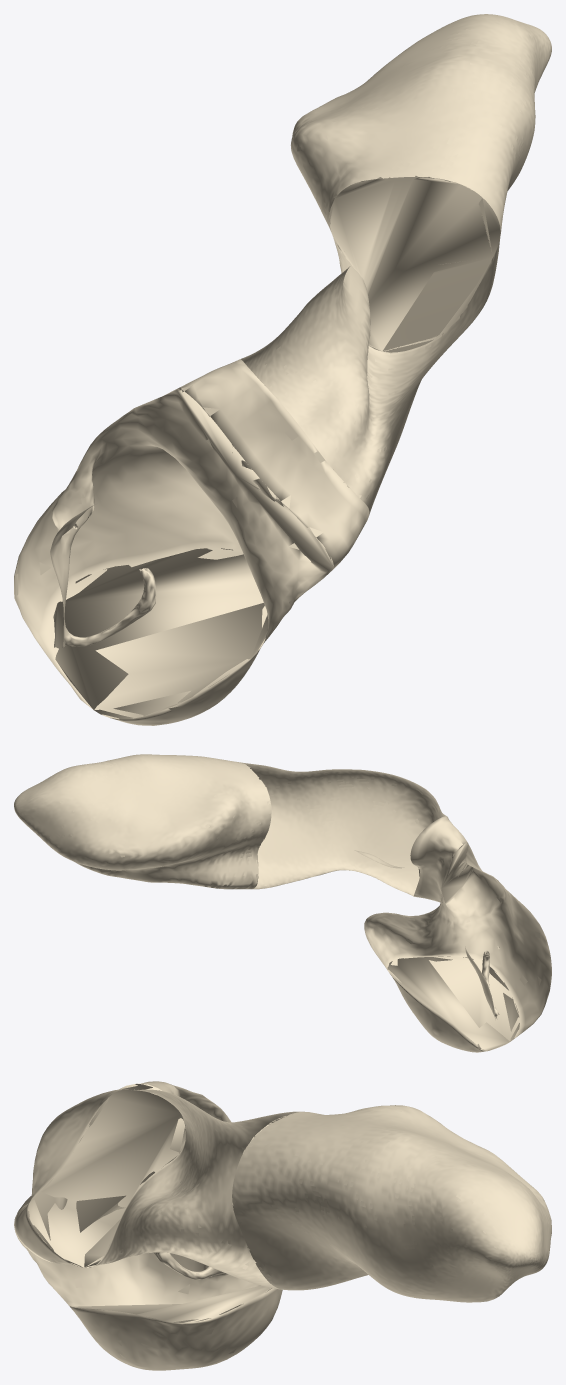
The picture shows the model from 3 angles, top to bottom: view 1: azimuth 30°, elevation 25°; view 2: azimuth 150°, elevation 25°; view 3: azimuth 270°, elevation 25°; orthographic projection. The views are drawn at different scales.
Parts seen in each view (by area): view 1: VH_M_head_of_pancreas, VH_M_body_of_pancreas, VH_M_tail_of_pancreas, VH_M_uncinate_process_of_the_pancreas, VH_M_neck_of_pancreas; view 2: VH_M_tail_of_pancreas, VH_M_head_of_pancreas, VH_M_body_of_pancreas, VH_M_uncinate_process_of_the_pancreas, VH_M_neck_of_pancreas; view 3: VH_M_tail_of_pancreas, VH_M_body_of_pancreas, VH_M_uncinate_process_of_the_pancreas, VH_M_head_of_pancreas, VH_M_neck_of_pancreas.
Boxes of the visible parts, box(x1,y1,x2,y2) form: VH_M_head_of_pancreas: box(14, 388, 333, 719); VH_M_body_of_pancreas: box(241, 177, 500, 515); VH_M_tail_of_pancreas: box(290, 14, 551, 352); VH_M_uncinate_process_of_the_pancreas: box(53, 548, 267, 725); VH_M_neck_of_pancreas: box(178, 359, 369, 569); VH_M_tail_of_pancreas: box(14, 754, 271, 889); VH_M_head_of_pancreas: box(364, 843, 551, 1051); VH_M_body_of_pancreas: box(242, 762, 446, 896); VH_M_uncinate_process_of_the_pancreas: box(387, 956, 519, 1052); VH_M_neck_of_pancreas: box(410, 816, 472, 902); VH_M_tail_of_pancreas: box(232, 1105, 551, 1302); VH_M_body_of_pancreas: box(28, 1084, 299, 1289); VH_M_uncinate_process_of_the_pancreas: box(69, 1285, 282, 1370); VH_M_head_of_pancreas: box(14, 1086, 271, 1322); VH_M_neck_of_pancreas: box(14, 1081, 185, 1267).
Bounding box in the file's own units: 0.1114 × 0.072 × 0.0836.
